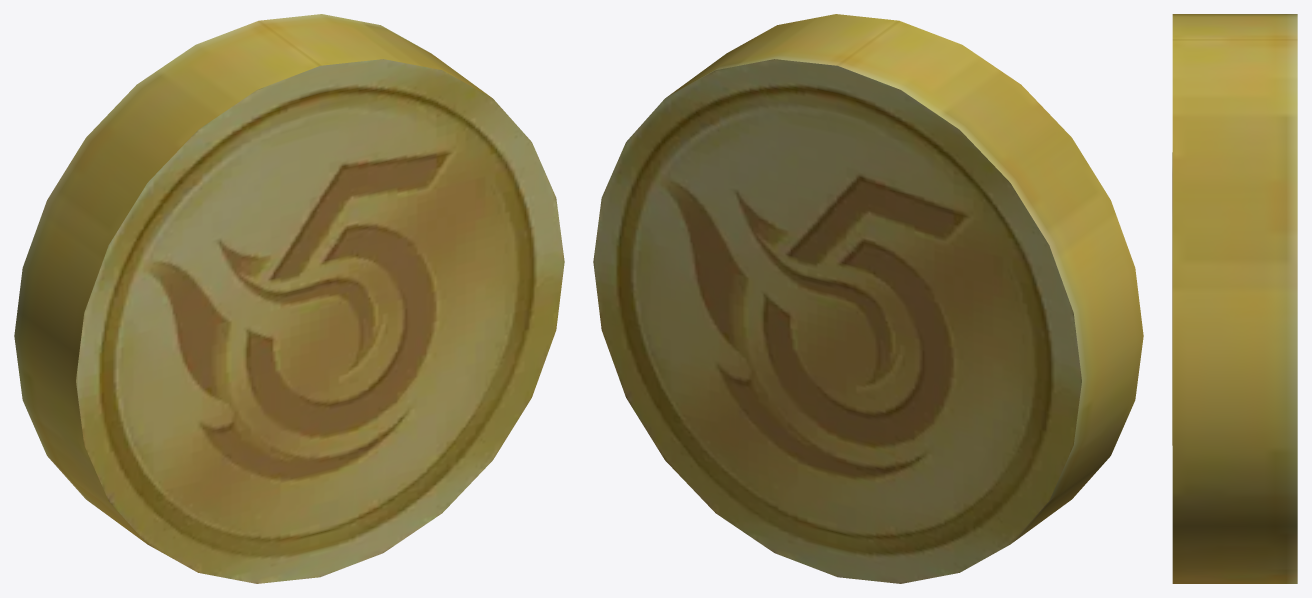
Rendered from coin_small.glb.
The picture shows the model from 3 angles, left to right: view 1: azimuth 30°, elevation 25°; view 2: azimuth 150°, elevation 25°; view 3: azimuth 270°, elevation 25°; orthographic projection.
Parts seen in each view (by area): view 1: Mesh; view 2: Mesh; view 3: Mesh.
Part boxes in pixels (x1,y1,x2,y2): Mesh: (14,14,564,583); Mesh: (593,14,1143,583); Mesh: (1172,14,1297,583).
Size of the model in its own units: 3.01 by 3.01 by 0.6602.
Materials: 1 (1 with a texture image).
